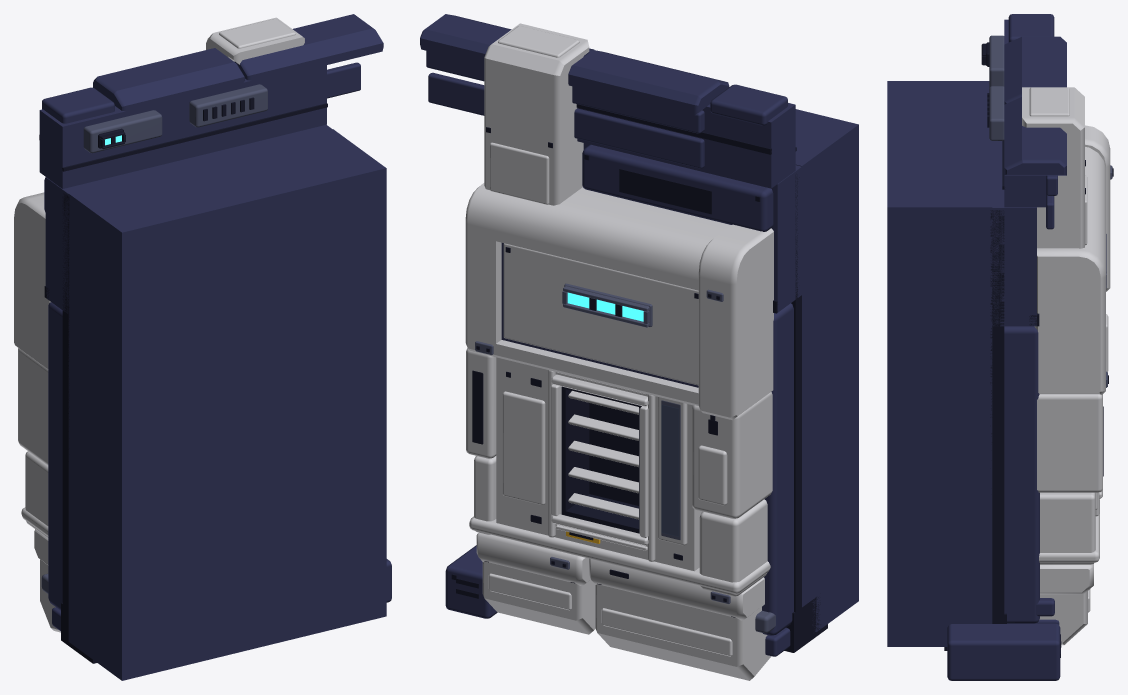
Rendered from hull.bay.vent.light.navy.plate.w2.000.s4.k-2.glb.
3 renders of one model, left to right at view 1: azimuth 30°, elevation 25°; view 2: azimuth 150°, elevation 25°; view 3: azimuth 270°, elevation 25°, orthographic. The views are drawn at different scales.
Visible parts, largest first — view 1: hull.bay.vent.light.navy.plate.w2.000.s4.k-2; view 2: hull.bay.vent.light.navy.plate.w2.000.s4.k-2; view 3: hull.bay.vent.light.navy.plate.w2.000.s4.k-2.
Boxes of the visible parts, x1,y1,x2,y2 form: hull.bay.vent.light.navy.plate.w2.000.s4.k-2: [14, 14, 391, 680]; hull.bay.vent.light.navy.plate.w2.000.s4.k-2: [420, 14, 858, 680]; hull.bay.vent.light.navy.plate.w2.000.s4.k-2: [887, 14, 1113, 680].
Bounding box in the file's own units: 2.44 × 4 × 1.51.
